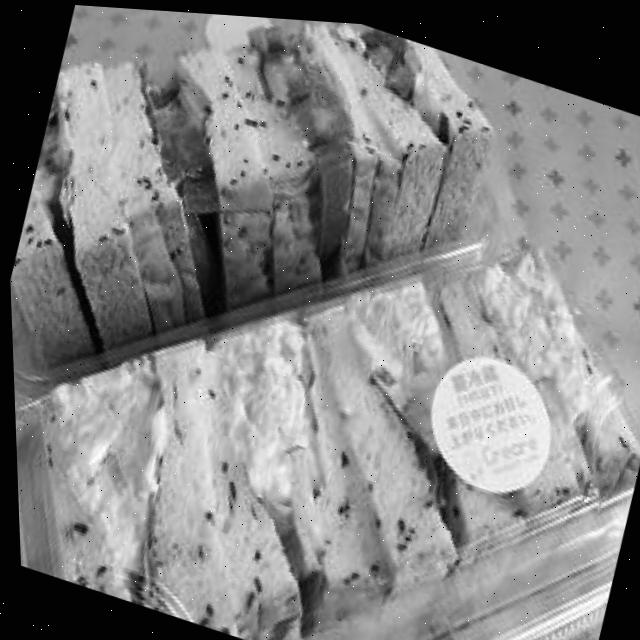三明治: (0, 0, 517, 474)
